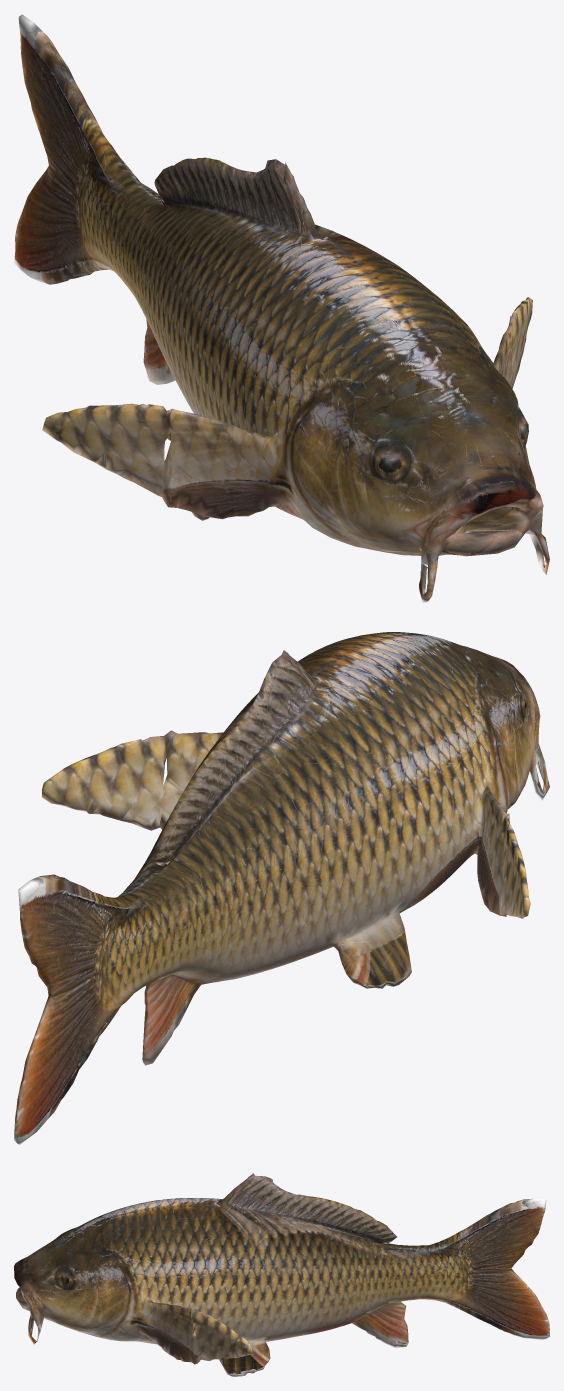
The model's file is fish_carp.glb.
3 views of the same model, one above another, from view 1: azimuth 30°, elevation 25°; view 2: azimuth 150°, elevation 25°; view 3: azimuth 270°, elevation 25° (orthographic). The views are drawn at different scales.
Parts seen in each view (by area): view 1: geometry_0; view 2: geometry_0; view 3: geometry_0.
Boxes of the visible parts, <box> form: geometry_0: <box>14,14,549,603</box>; geometry_0: <box>14,632,549,1144</box>; geometry_0: <box>14,1173,549,1376</box>.
Size of the model in its own units: 1.13 by 0.7094 by 1.96.
1 material, 1 textured.
